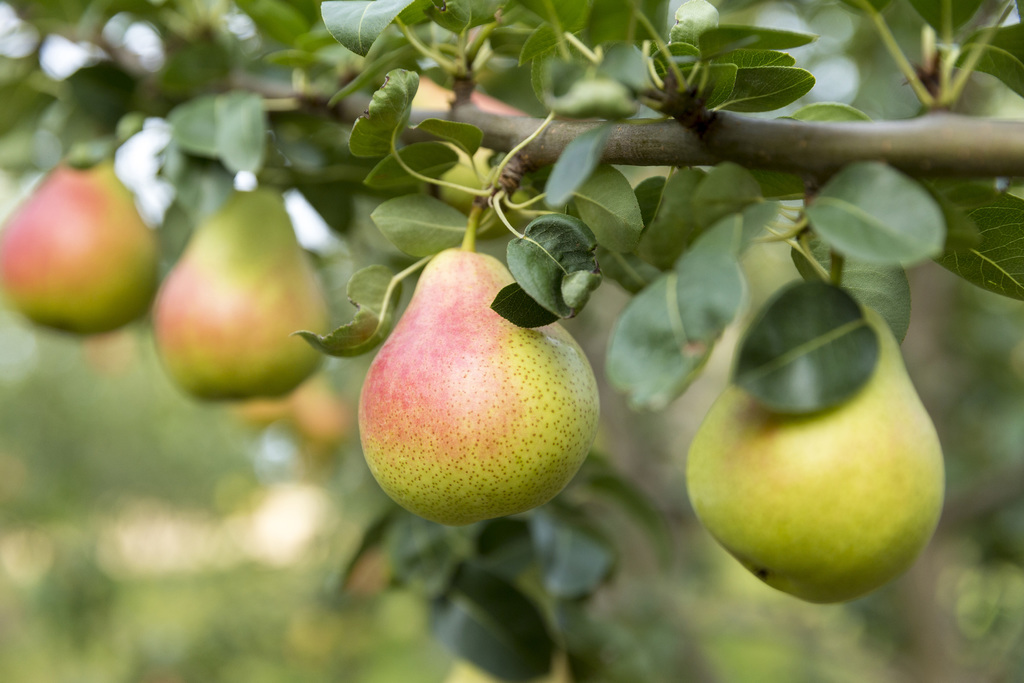Apple: (7, 153, 157, 352)
